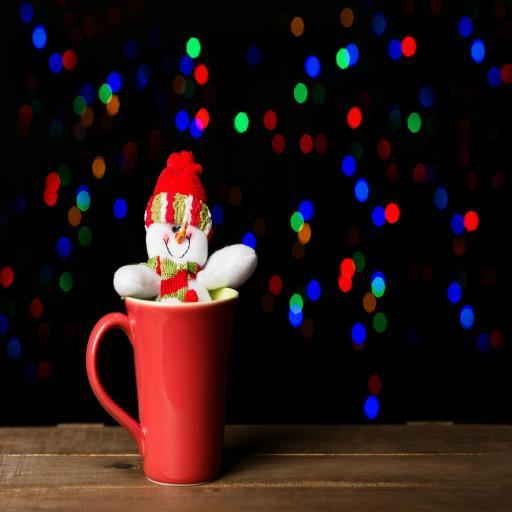cup: (86, 284, 240, 488)
